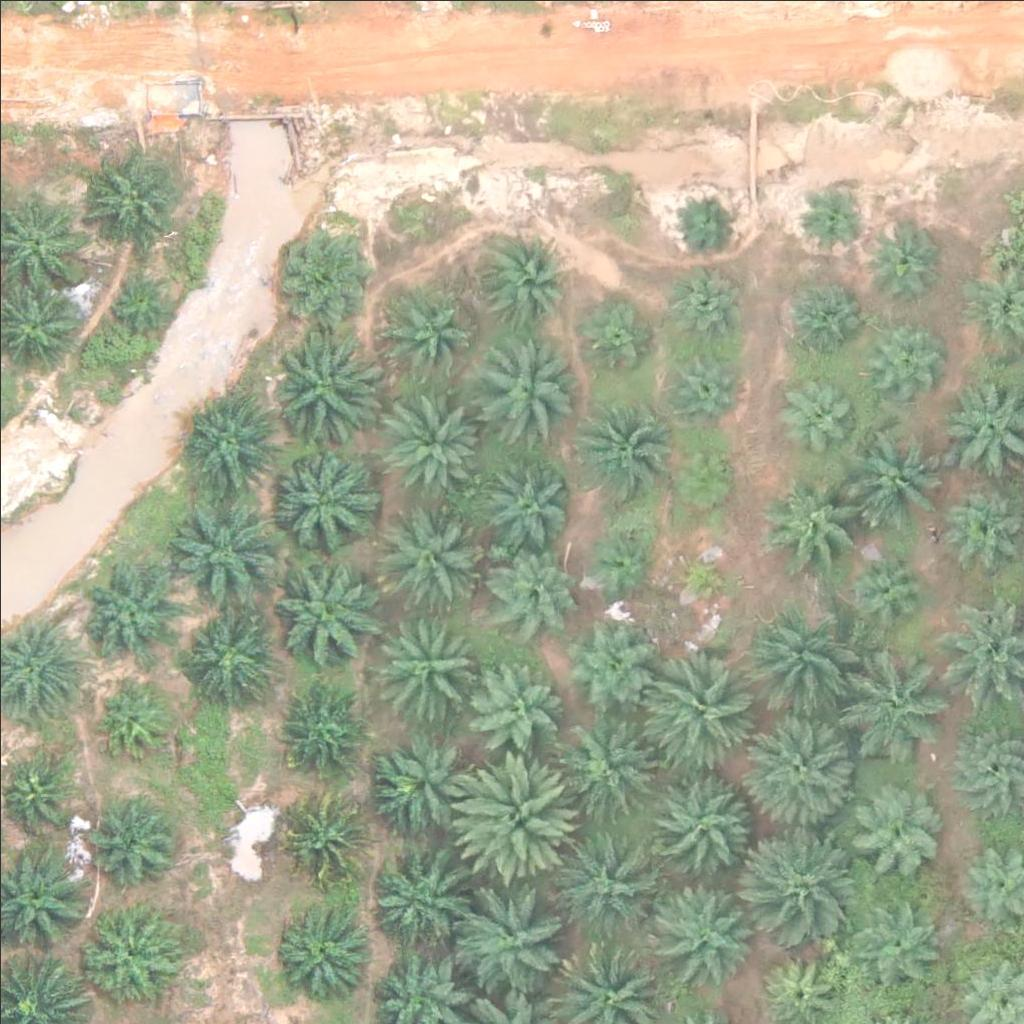Kelapa_Sawit: (447, 752, 572, 878), (457, 886, 570, 1000), (168, 499, 281, 612), (267, 555, 380, 668), (263, 444, 376, 557), (551, 827, 664, 940), (644, 772, 757, 885), (747, 711, 860, 824), (748, 608, 860, 722), (265, 332, 377, 445), (652, 871, 764, 984), (647, 654, 759, 767), (750, 820, 862, 933), (182, 390, 282, 491), (82, 145, 182, 246), (270, 906, 370, 1007), (274, 217, 374, 318), (363, 847, 463, 948), (377, 610, 477, 711), (382, 498, 482, 599), (386, 390, 486, 491), (560, 718, 660, 819), (558, 617, 658, 718), (766, 469, 866, 570), (852, 420, 952, 521), (852, 648, 952, 749), (567, 403, 667, 504), (79, 906, 179, 1006), (76, 561, 176, 661), (378, 741, 478, 841), (475, 339, 575, 439), (845, 783, 945, 883), (94, 801, 182, 889), (183, 606, 271, 694), (283, 795, 371, 883), (490, 543, 578, 631), (665, 260, 753, 348), (843, 544, 931, 632), (488, 455, 575, 544), (858, 895, 945, 984), (281, 687, 368, 775), (381, 285, 468, 373), (479, 236, 566, 324), (473, 663, 560, 751), (656, 341, 743, 429), (785, 370, 860, 446), (783, 282, 858, 358), (584, 522, 659, 598), (95, 682, 170, 758), (665, 435, 740, 511), (577, 301, 652, 376), (865, 316, 940, 391), (867, 216, 942, 291), (101, 259, 176, 334), (806, 187, 869, 250), (674, 191, 736, 254), (671, 547, 733, 610)
